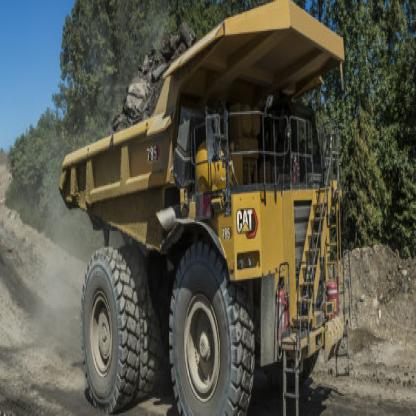dump_truck: (60, 3, 350, 413)
